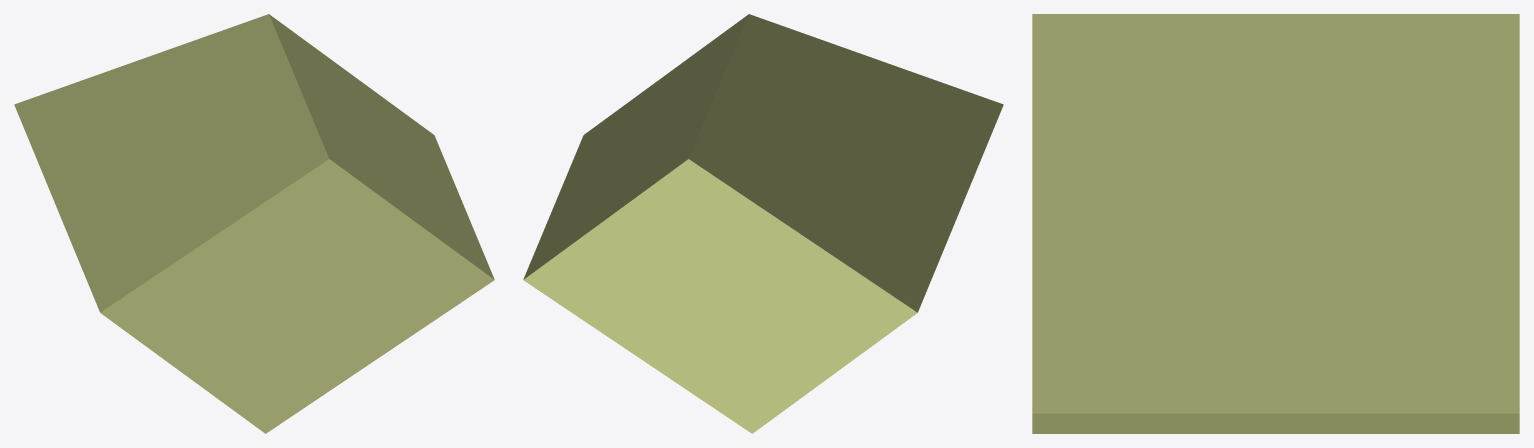
The picture shows the model from 3 angles, left to right: view 1: azimuth 30°, elevation 25°; view 2: azimuth 150°, elevation 25°; view 3: azimuth 270°, elevation 25°; orthographic projection. The views are drawn at different scales.
Visible parts, largest first — view 1: 0_0_1_2_0_0_3_0_3_0_0; view 2: 0_0_1_2_0_0_3_0_3_0_0; view 3: 0_0_1_2_0_0_3_0_3_0_0.
Part boxes in pixels (x1,y1,x2,y2): 0_0_1_2_0_0_3_0_3_0_0: (14,14,494,433); 0_0_1_2_0_0_3_0_3_0_0: (523,14,1003,433); 0_0_1_2_0_0_3_0_3_0_0: (1032,14,1519,433).
Bounding box in the file's own units: 9.9 × 7.73 × 9.
